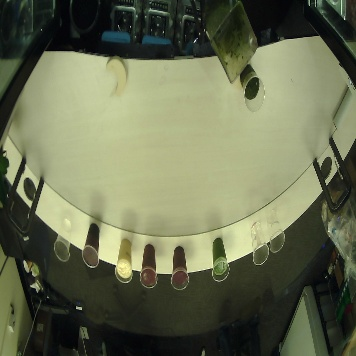empty_cup: (55, 213, 75, 261), (248, 219, 268, 267), (265, 204, 285, 252)
full_cup: (235, 61, 269, 115), (204, 231, 238, 285), (163, 240, 197, 294), (133, 239, 167, 293), (108, 232, 142, 286), (77, 219, 111, 273)
puck: (104, 56, 131, 98)
